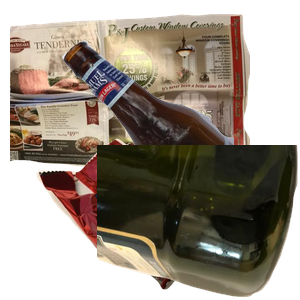glass: (60, 38, 300, 218)
paper: (10, 11, 250, 180)
plastic: (97, 145, 300, 300)
trash: (34, 136, 253, 300)
